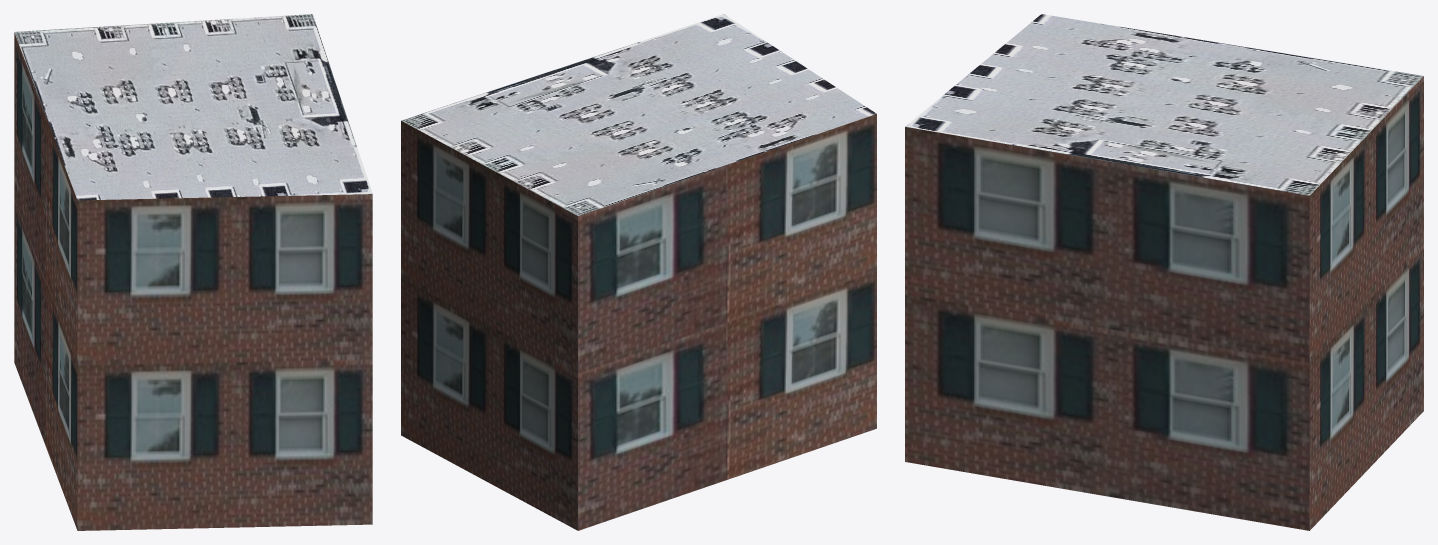
The model's file is ResTex__2600.fbx.
3 views of the same model, side by side, from view 1: azimuth 30°, elevation 25°; view 2: azimuth 150°, elevation 25°; view 3: azimuth 270°, elevation 25° (orthographic). The views are drawn at different scales.
Visible parts, largest first — view 1: CityEngineMaterial_14_m, CityEngineMaterial_8_m; view 2: CityEngineMaterial_14_m, CityEngineMaterial_8_m; view 3: CityEngineMaterial_14_m, CityEngineMaterial_8_m.
Part boxes in pixels (x1,y1,x2,y2): CityEngineMaterial_14_m: [14, 33, 372, 530]; CityEngineMaterial_8_m: [14, 14, 372, 200]; CityEngineMaterial_14_m: [401, 114, 876, 530]; CityEngineMaterial_8_m: [401, 14, 876, 215]; CityEngineMaterial_14_m: [905, 76, 1423, 530]; CityEngineMaterial_8_m: [905, 14, 1423, 195].
Bounding box in the file's own units: 6.98 × 6 × 8.42.
Materials: 2 (2 with a texture image).
